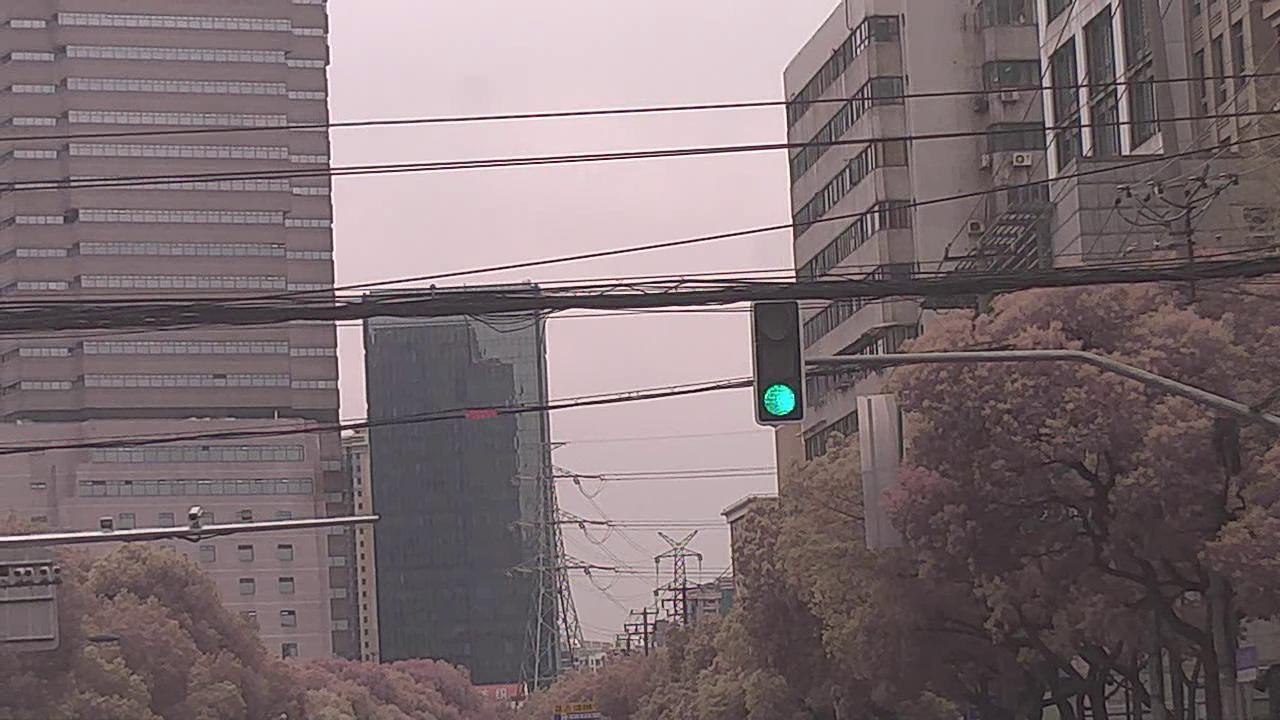traffic_light: (753, 299, 804, 422)
